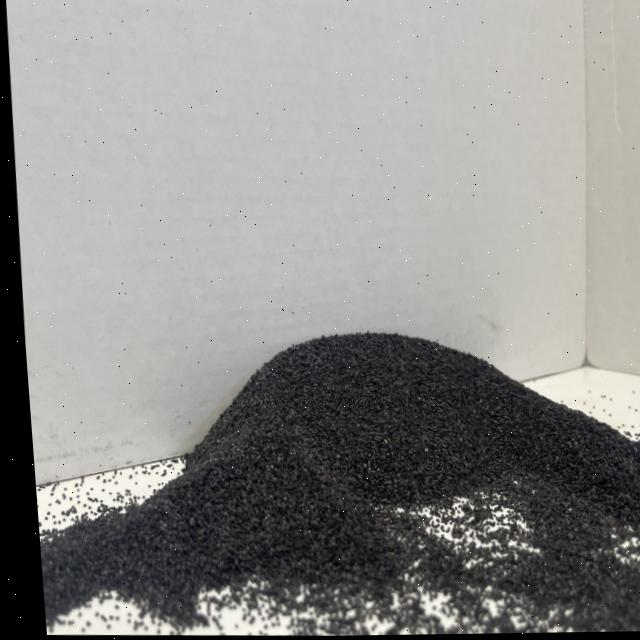Poppy Seeds: (24, 309, 640, 640)
